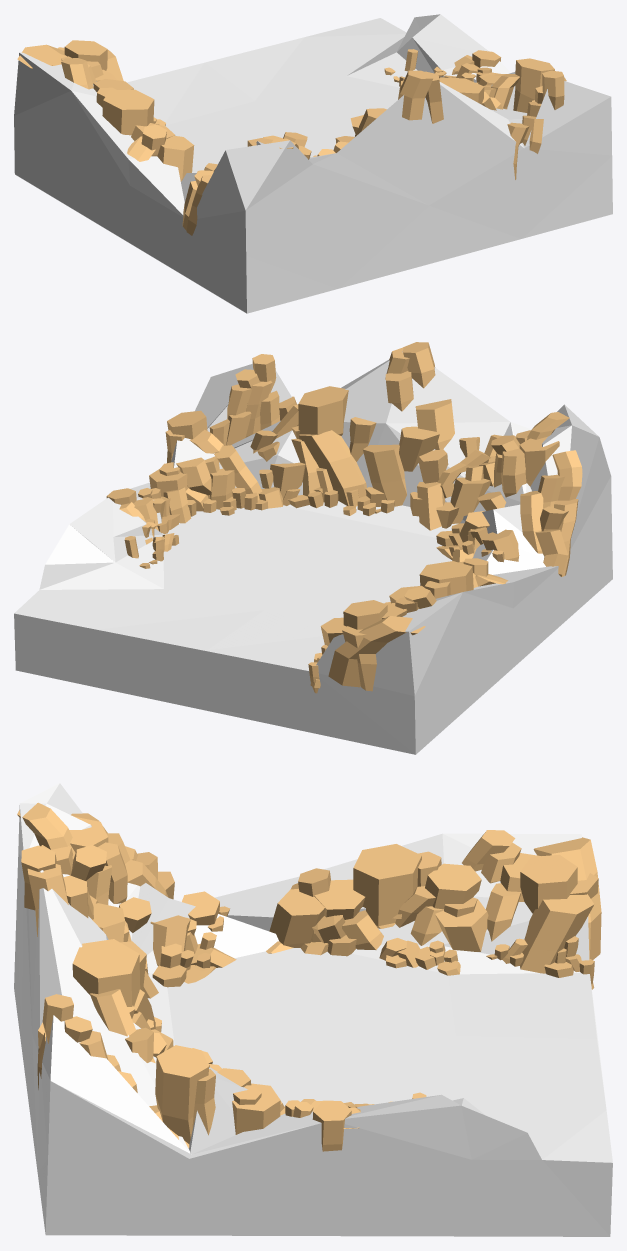
Rendered from snow3_lev5.glb.
The picture shows the model from 3 angles, top to bottom: view 1: azimuth 30°, elevation 25°; view 2: azimuth 150°, elevation 25°; view 3: azimuth 270°, elevation 25°; orthographic projection. The views are drawn at different scales.
Parts seen in each view (by area): view 1: group1586283693, group423818086, group6855632, group635469221, group818719132, group1798602863, group605995530, group270538316, group1110862186, group1899218596, group284376145, group1972280471 (+4 smaller); view 2: group1586283693, group1670661091, group1110862186, group109473454, group1899218596, group955683139, group1622696322, group140002579, group423818086, group1209576230, group283182389, group541698014 (+27 smaller); view 3: group1586283693, group423818086, group109473454, group6855632, group1041836491, group1899218596, group1798602863, group818719132, group1110862186, group137237167, group519686499, group1374248848 (+27 smaller).
Boxes of the visible parts, x1,y1,x2,y2 form: group1586283693: (14, 14, 612, 313); group423818086: (102, 89, 154, 135); group6855632: (513, 58, 554, 112); group635469221: (399, 70, 433, 120); group818719132: (157, 135, 194, 181); group1798602863: (64, 40, 107, 70); group605995530: (542, 70, 564, 109); group270538316: (61, 58, 93, 89); group1110862186: (17, 44, 66, 68); group1899218596: (439, 77, 484, 104); group284376145: (425, 71, 443, 123); group1972280471: (522, 115, 543, 153); group1586283693: (14, 351, 612, 754); group1670661091: (298, 430, 366, 505); group1110862186: (328, 616, 425, 687); group109473454: (448, 511, 519, 562); group1899218596: (298, 386, 348, 439); group955683139: (363, 444, 406, 506); group1622696322: (417, 482, 458, 530); group140002579: (415, 399, 454, 449); group423818086: (419, 561, 473, 594); group1209576230: (399, 426, 439, 471); group283182389: (552, 450, 582, 500); group541698014: (450, 477, 490, 523); group1586283693: (14, 783, 612, 1236); group423818086: (353, 844, 421, 928); group109473454: (150, 891, 229, 970); group6855632: (155, 1045, 208, 1143); group1041836491: (520, 894, 594, 973); group1899218596: (72, 939, 140, 1017); group1798602863: (520, 854, 577, 913); group818719132: (269, 889, 324, 947); group1110862186: (533, 837, 601, 959); group137237167: (425, 863, 481, 909); group519686499: (435, 899, 488, 951); group1374248848: (232, 1083, 280, 1134).
Bounding box in the file's own units: 377 × 184 × 369.
